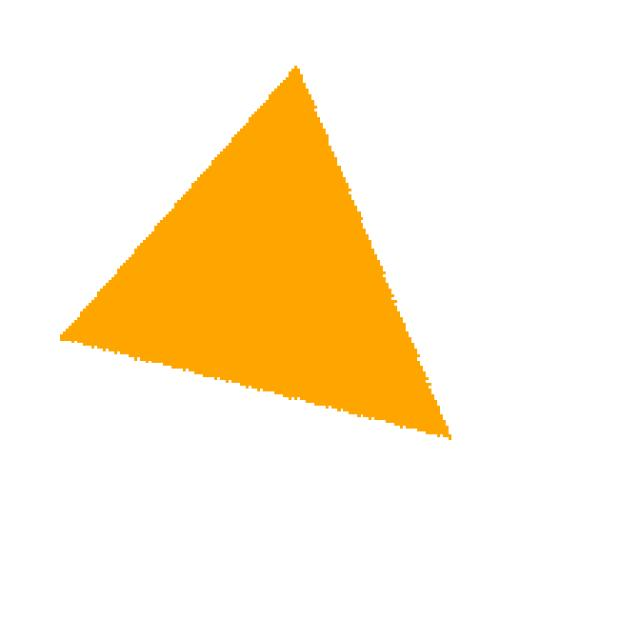Triangle: (61, 56, 528, 508)
